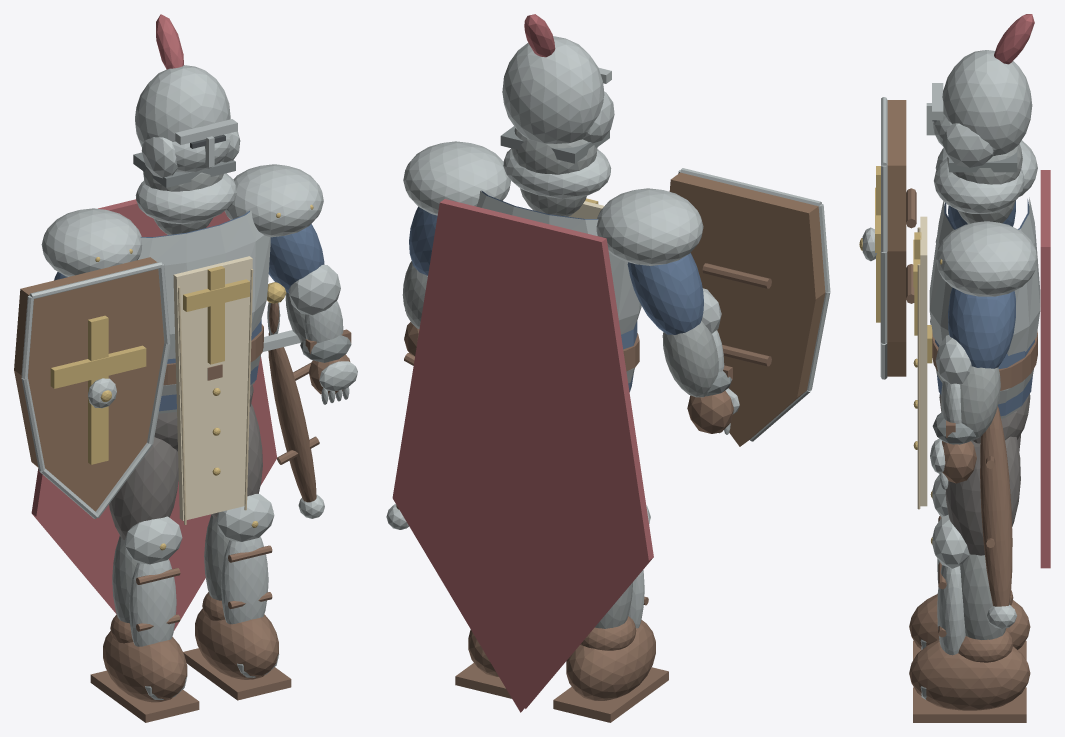
The model's file is medieval_knight.glb.
The picture shows the model from 3 angles, left to right: view 1: azimuth 30°, elevation 25°; view 2: azimuth 150°, elevation 25°; view 3: azimuth 270°, elevation 25°; orthographic projection. The views are drawn at different scales.
Visible parts, largest first — view 1: steel_surface, wood_surface, leather_surface, heraldry_surface, surcoat_surface, gold_surface, trousers_surface, chainmail_surface, tunic_surface, iron_surface, thread_surface; view 2: surcoat_surface, steel_surface, wood_surface, leather_surface, chainmail_surface, tunic_surface, iron_surface; view 3: steel_surface, leather_surface, chainmail_surface, tunic_surface, surcoat_surface, wood_surface, trousers_surface, heraldry_surface, gold_surface, iron_surface, thread_surface.
Boxes of the visible parts, <box> form: steel_surface: <box>21,65,357,699</box>; wood_surface: <box>14,257,164,511</box>; leather_surface: <box>90,303,351,722</box>; heraldry_surface: <box>173,256,252,520</box>; surcoat_surface: <box>31,14,276,630</box>; gold_surface: <box>50,204,313,550</box>; trousers_surface: <box>109,385,262,540</box>; chainmail_surface: <box>112,169,305,623</box>; tunic_surface: <box>54,210,324,411</box>; iron_surface: <box>133,152,351,362</box>; thread_surface: <box>178,269,253,524</box>; surcoat_surface: <box>392,14,653,712</box>; steel_surface: <box>386,36,830,628</box>; wood_surface: <box>669,172,825,446</box>; leather_surface: <box>396,263,771,722</box>; chainmail_surface: <box>402,128,718,628</box>; tunic_surface: <box>409,190,703,391</box>; iron_surface: <box>405,126,731,396</box>; steel_surface: <box>862,50,1040,699</box>; leather_surface: <box>906,188,1037,722</box>; chainmail_surface: <box>935,144,1033,639</box>; tunic_surface: <box>935,199,1034,416</box>; surcoat_surface: <box>994,14,1050,568</box>; wood_surface: <box>887,100,906,376</box>; trousers_surface: <box>939,394,1030,555</box>; heraldry_surface: <box>920,216,927,506</box>; gold_surface: <box>859,166,942,544</box>; iron_surface: <box>932,152,1017,444</box>; thread_surface: <box>917,227,920,509</box>.
Bounding box in the file's own units: 1.15 × 1.96 × 0.504.
